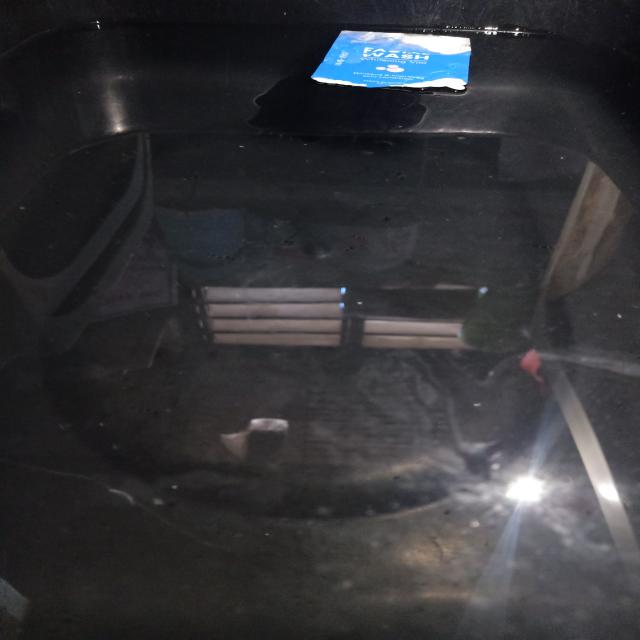Plastic Wrapper: (311, 30, 471, 94)
